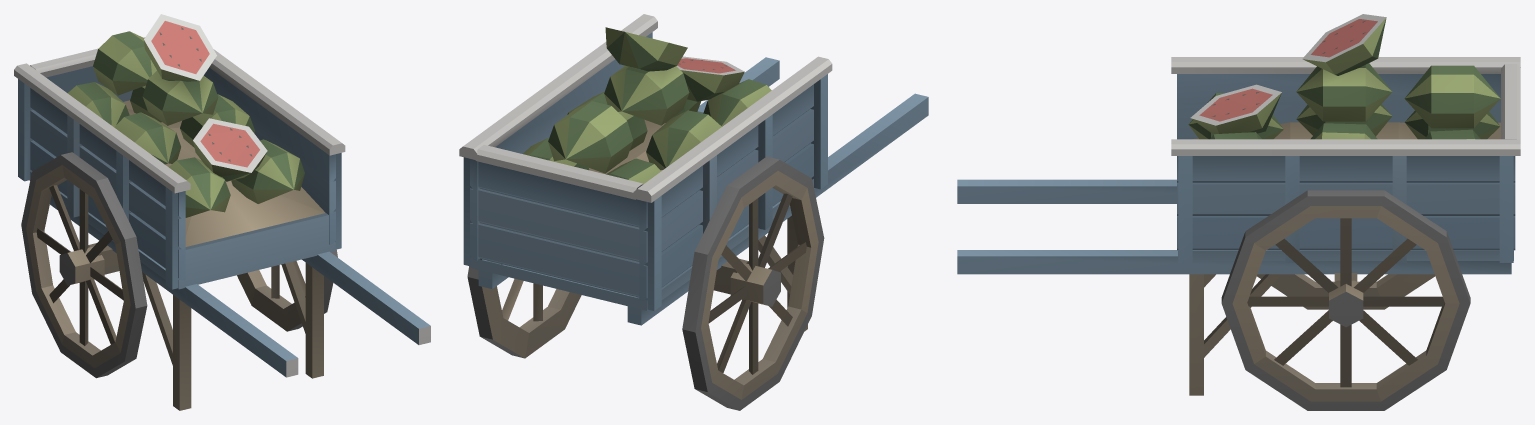
The model's file is melon.glb.
3 views of the same model, side by side, from view 1: azimuth 30°, elevation 25°; view 2: azimuth 150°, elevation 25°; view 3: azimuth 270°, elevation 25° (orthographic). The views are drawn at different scales.
Parts seen in each view (by area): view 1: melon; view 2: melon; view 3: melon.
Part boxes in pixels (x1,y1,x2,y2): melon: [14, 14, 430, 410]; melon: [459, 14, 928, 410]; melon: [957, 14, 1520, 410].
Bounding box in the file's own units: 1 × 1.33 × 2.
